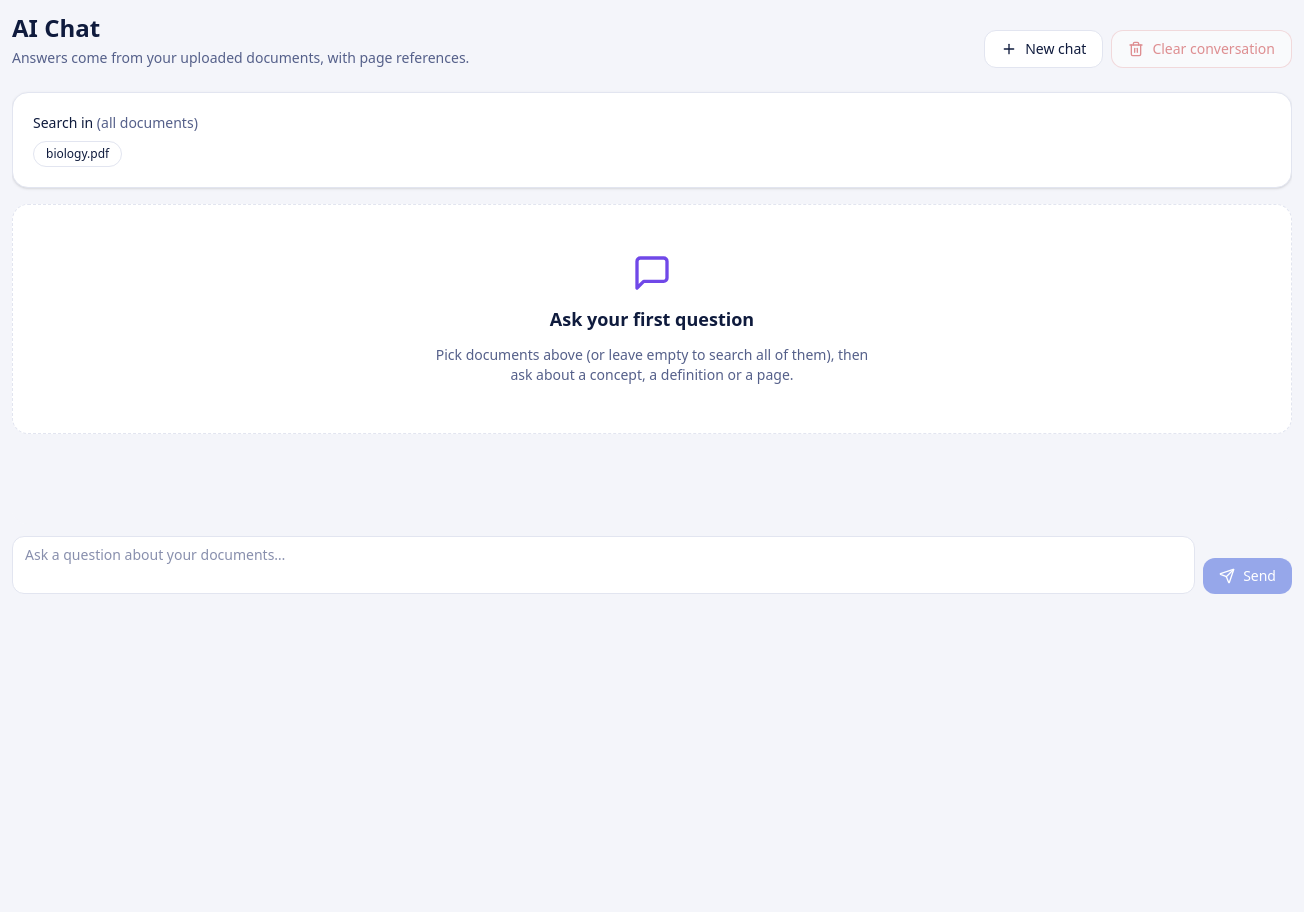
Test: shows a clear error when the AI request fails
Type "Hello?" into the text box named "Your question" at (604, 565), box [12,536,1195,594]
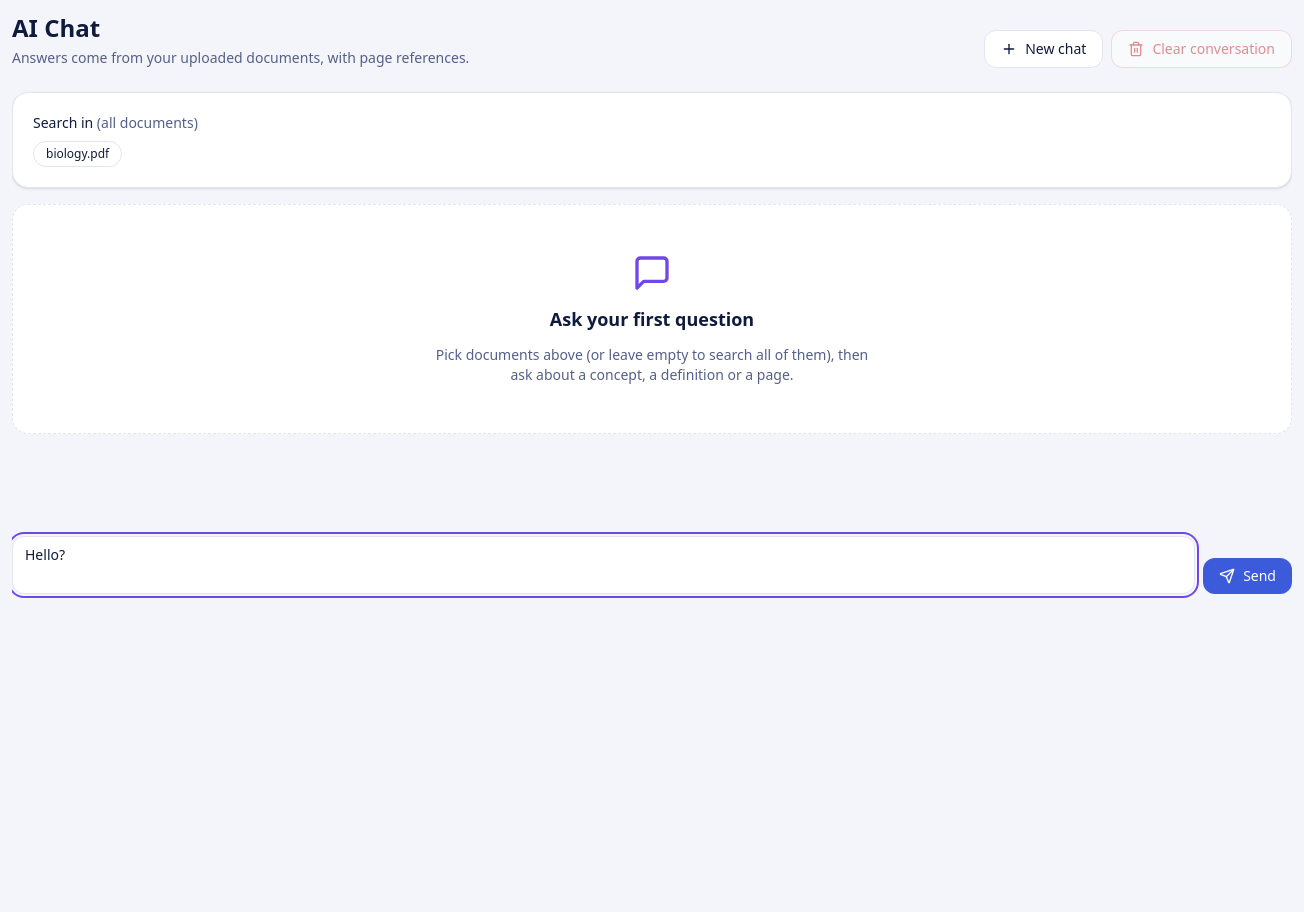
Click the button "Send" at (1248, 576), box [1203,558,1292,594]
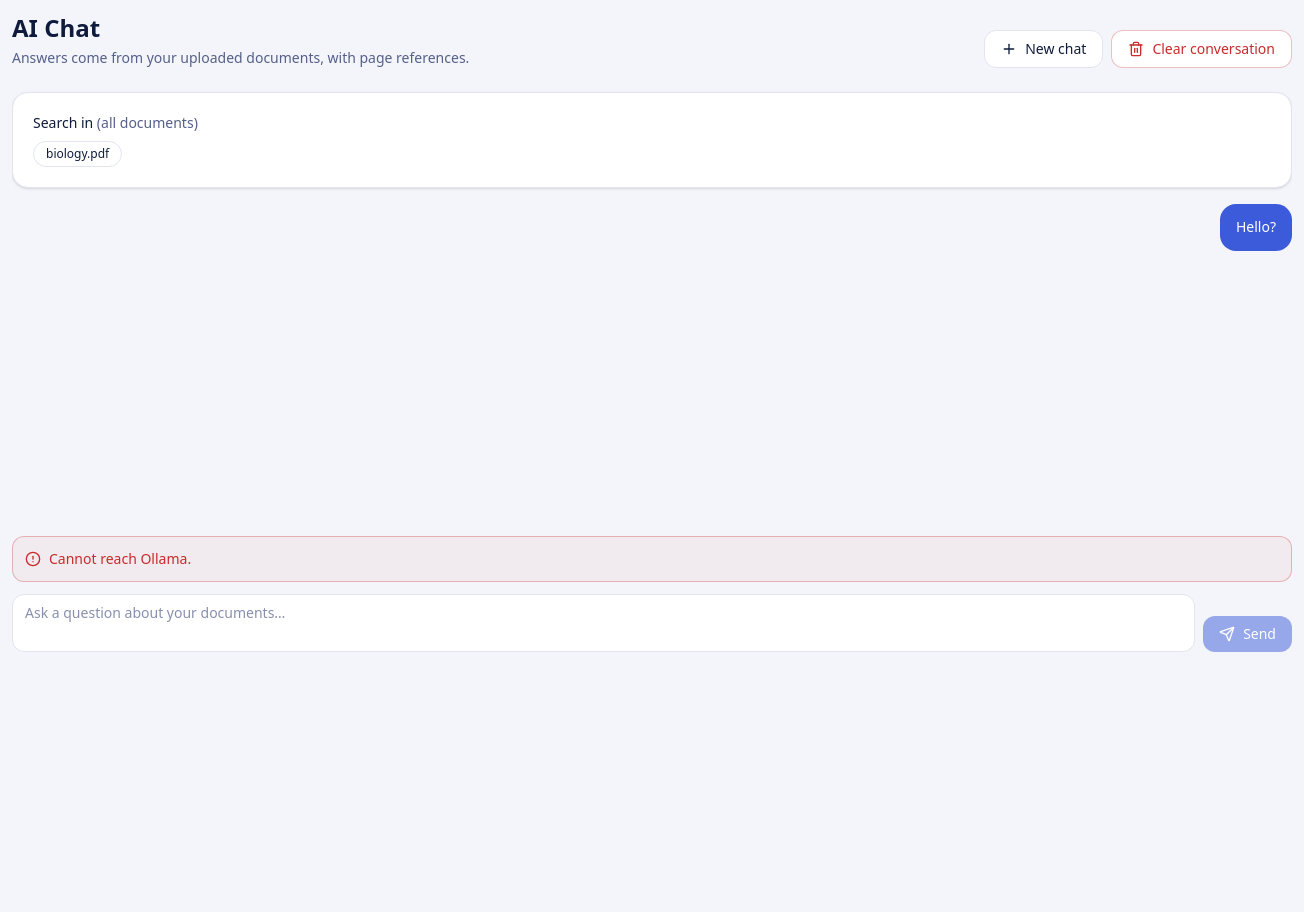
Now the message reads "Cannot reach Ollama.", box [49,549,191,568]
